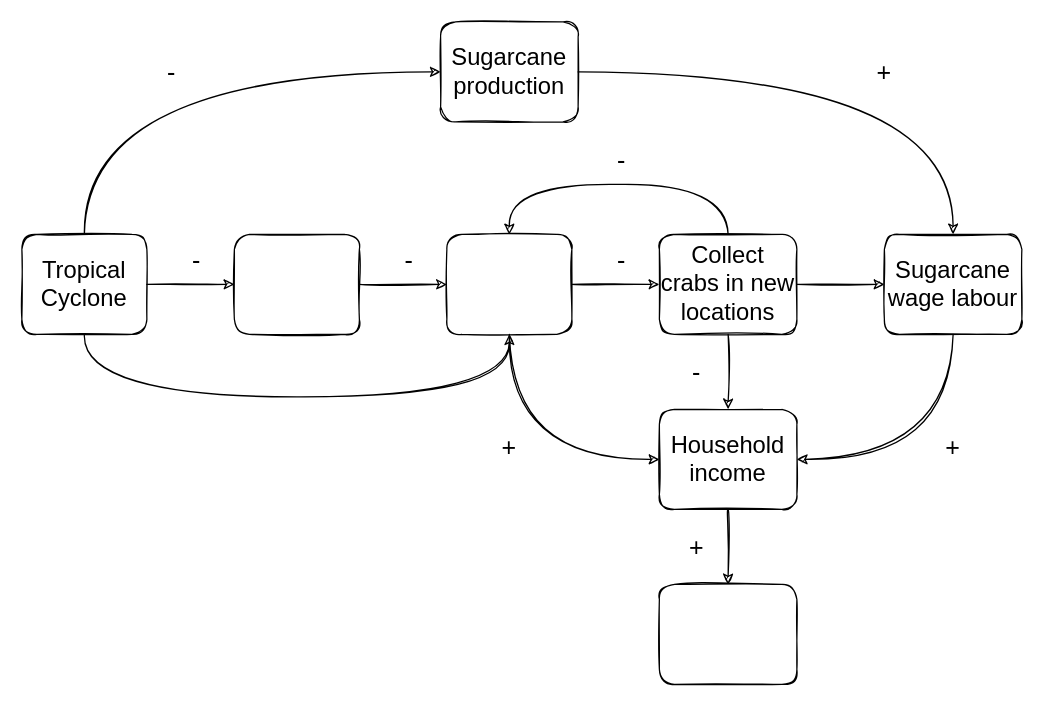
The diagram is 1044 pixels wide and 706 high, and some of its shapes have lost their labels. The centre of each missing label's shape, as x and y in pixels:
"Collecting mud crabs" goes at point (509, 283).
"Debris in streams" goes at point (296, 283).
"Household savings" goes at point (727, 633).
